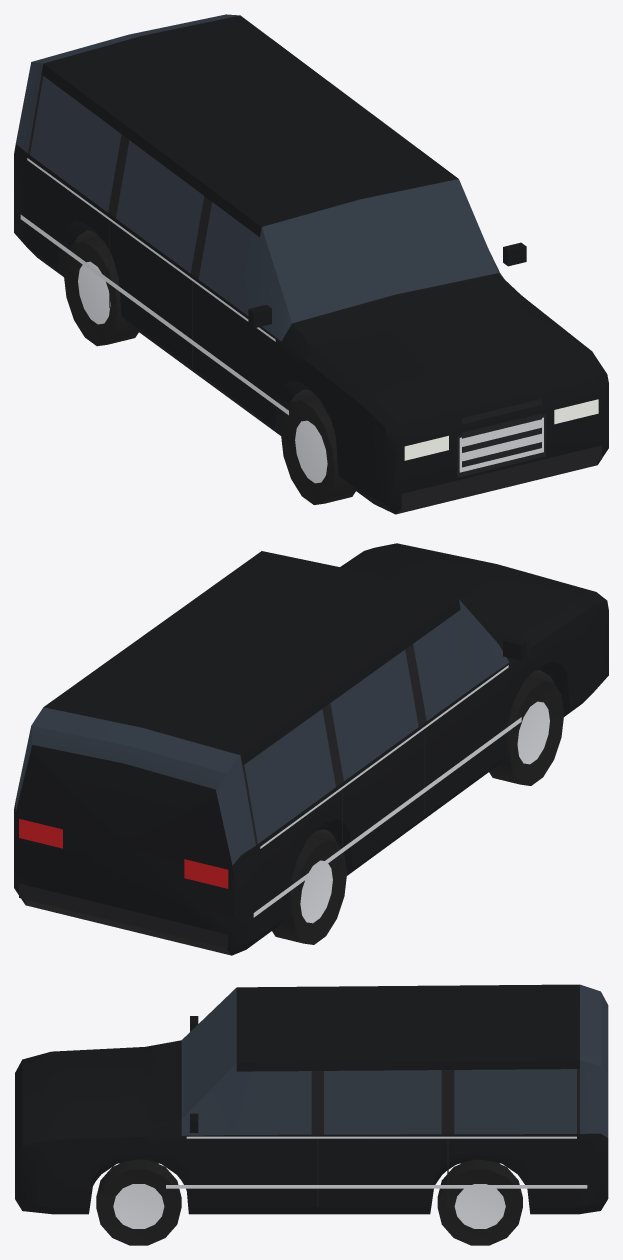
The model's file is nyc_suv_black.glb.
3 renders of one model, top to bottom at view 1: azimuth 30°, elevation 25°; view 2: azimuth 150°, elevation 25°; view 3: azimuth 270°, elevation 25°, orthographic. The views are drawn at different scales.
Visible parts, largest first — view 1: nyc_suv_black; view 2: nyc_suv_black; view 3: nyc_suv_black.
Part boxes in pixels (<box>): nyc_suv_black: <box>14,14,608,514</box>; nyc_suv_black: <box>14,543,608,955</box>; nyc_suv_black: <box>15,984,608,1245</box>.
Bounding box in the file's own units: 2.38 × 1.93 × 5.72.
1 material, 1 textured.
